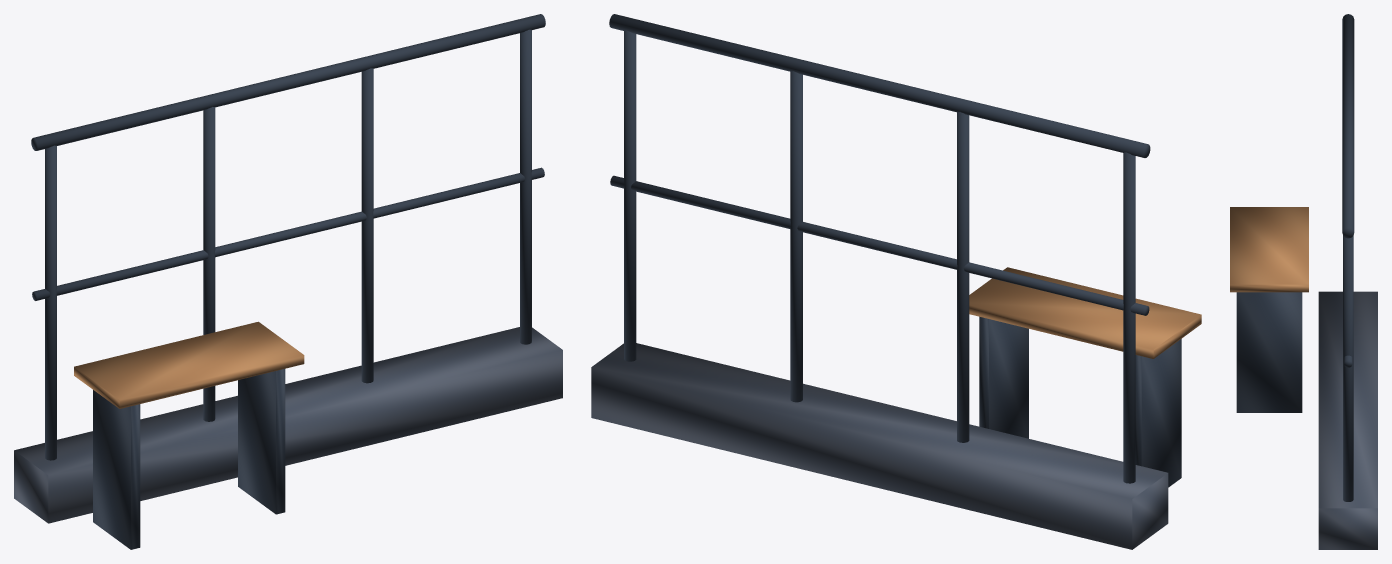
File: rooftop-safety-railing.glb
3 views of the same model, side by side, from view 1: azimuth 30°, elevation 25°; view 2: azimuth 150°, elevation 25°; view 3: azimuth 270°, elevation 25° (orthographic). The views are drawn at different scales.
Visible parts, largest first — view 1: TS_StageProp_rooftop-safety-railing; view 2: TS_StageProp_rooftop-safety-railing; view 3: TS_StageProp_rooftop-safety-railing.
Boxes of the visible parts, bbox=[...] form: TS_StageProp_rooftop-safety-railing: bbox=[14, 14, 562, 549]; TS_StageProp_rooftop-safety-railing: bbox=[591, 14, 1201, 549]; TS_StageProp_rooftop-safety-railing: bbox=[1230, 14, 1377, 549].
Bounding box in the file's own units: 1.56 × 1.08 × 0.45.
1 material, 1 textured.
